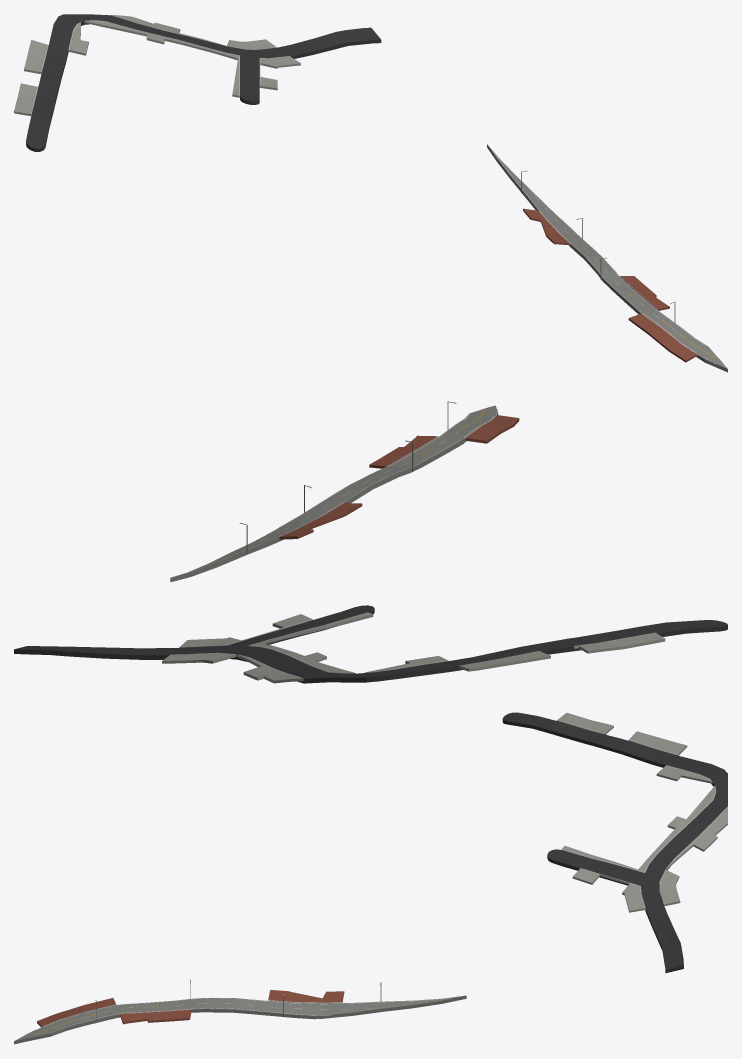
The picture shows the model from 3 angles, top to bottom: view 1: azimuth 30°, elevation 25°; view 2: azimuth 150°, elevation 25°; view 3: azimuth 270°, elevation 25°; orthographic projection. The views are drawn at different scales.
Bounding box in the file's own units: 159 × 53.18 × 239.
